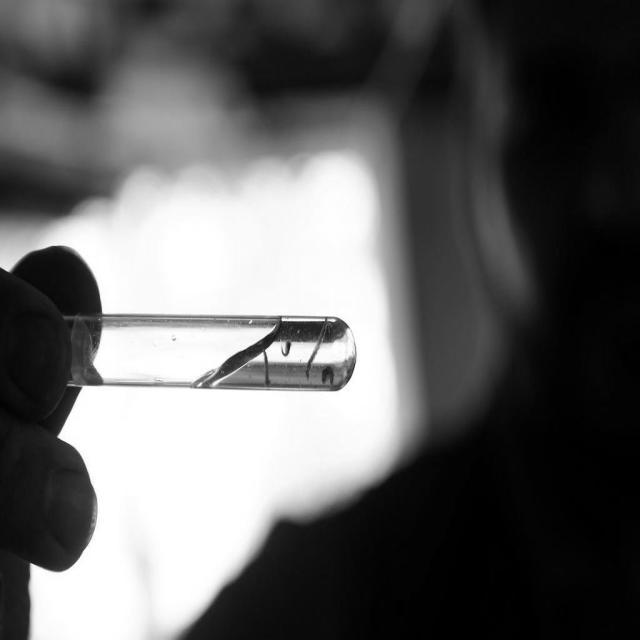larvas: (304, 318, 329, 374), (262, 350, 270, 388), (321, 367, 334, 385), (278, 338, 290, 356)
